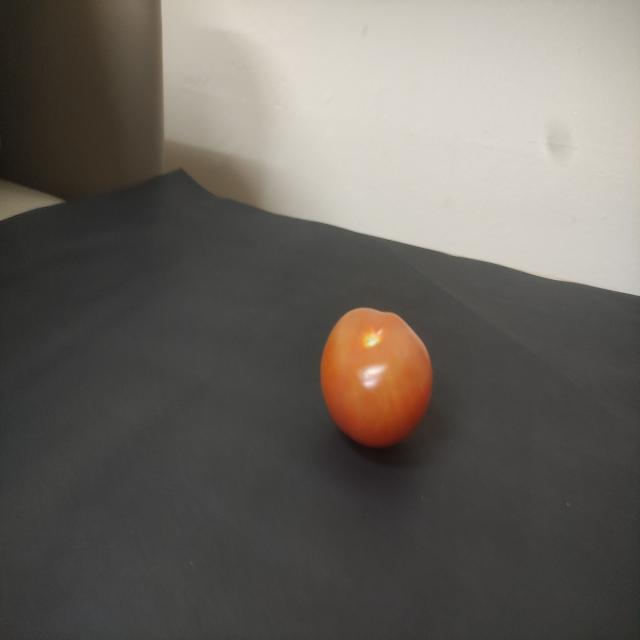sari: (320, 293, 443, 457)
